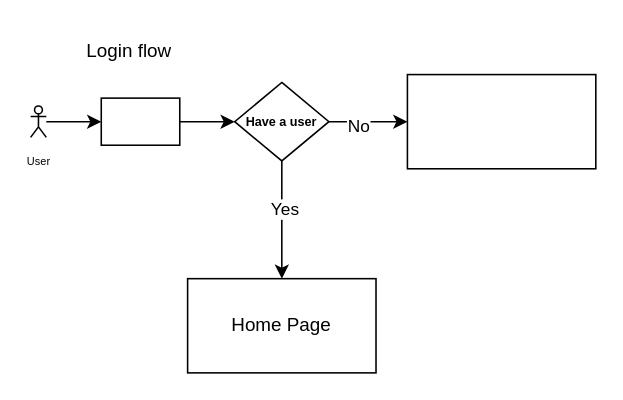
Some shapes in this 623 by 400 pixel diagram are drawn without their labels. The shapes that lost their labels are listed below. From the top down, each one's centre as x and y in pixels, then its label:
point 140,121: Login Page
point 501,121: Register
